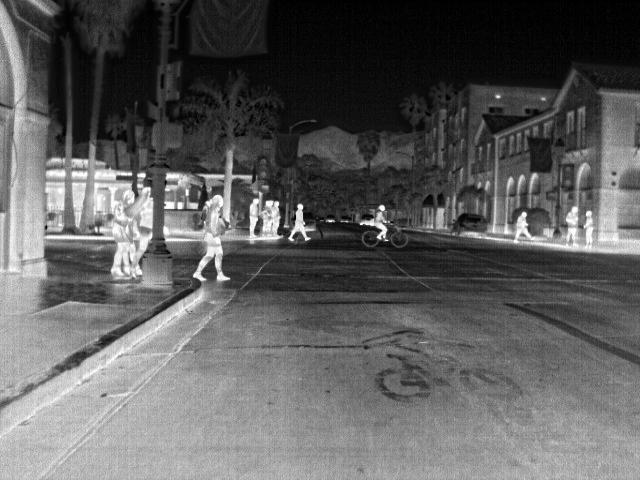car: (454, 214, 490, 234), (302, 212, 319, 232), (323, 214, 337, 225)
person: (194, 196, 236, 285), (108, 188, 136, 280), (137, 184, 155, 263), (284, 203, 311, 244), (371, 202, 392, 244), (245, 197, 263, 243), (513, 208, 534, 241), (566, 200, 581, 244), (582, 210, 597, 244)
